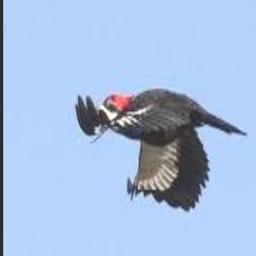Woodpecker: (76, 87, 249, 212)
